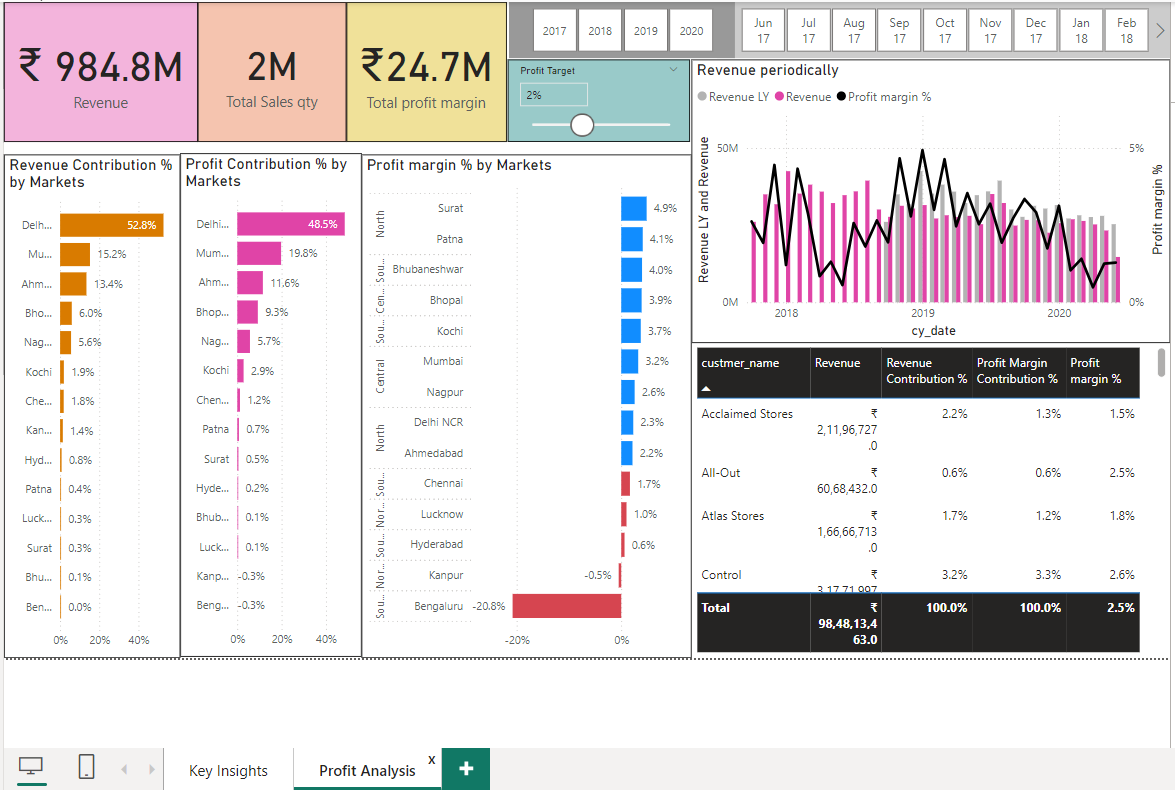

The page's visual inventory and layout, read from the dashboard file:
{"tool":"powerbi","page":{"name":"Profit Analysis","canvas":[1280,720],"ordinal":1},"visuals":[{"type":"card","fields":{"Values":["profit_file.Total profit margin"]},"box":[376.4,0,175.6,153.7],"z":0},{"type":"card","fields":{"Values":["sales transactions.Total Sales qty"]},"box":[213.1,0,163.3,153.7],"z":1000},{"type":"slicer","fields":{"Values":["sales date.cy_date"]},"box":[783.5,0,496.7,61.7],"z":2000},{"type":"barChart","title":"Profit Contribution % by Markets","fields":{"Category":["sales markets.markets_name"],"Y":["profit_file.Profit Margin Contribution %"]},"box":[193.5,166,199,553],"z":3000},{"type":"tableEx","title":"Revenue by Customers","fields":{"Values":["sales customers.custmer_name","sales transactions.Revenue","profit_file.Revenue Contribution %","profit_file.Profit Margin Contribution %","profit_file.Profit margin %"]},"box":[754.7,374.6,525.6,344.4],"z":4000},{"type":"slicer","fields":{"Values":["sales date.year"]},"box":[554.4,0,248.4,61.7],"z":5000},{"type":"barChart","title":"Profit margin % by Markets","fields":{"Category":["sales markets.zone","sales markets.markets_name","sales customers.custmer_name"],"Y":["profit_file.Profit margin %"]},"box":[392.5,167.4,362.3,553],"z":6000},{"type":"barChart","title":"Revenue Contribution % by Markets","fields":{"Category":["sales markets.markets_name"],"Y":["profit_file.Revenue Contribution %"]},"box":[0,167.4,193.5,553],"z":7000},{"type":"card","fields":{"Values":["sales transactions.Revenue"]},"box":[0,0,212.7,153.7],"z":8000},{"type":"lineClusteredColumnComboChart","title":"Revenue periodically","fields":{"Category":["sales date.cy_date"],"Y":["Profit Target.Revenue LY","sales transactions.Revenue"],"Y2":["profit_file.Profit margin %"]},"box":[754.7,63.1,525.6,311.5],"z":9000},{"type":"slicer","fields":{"Values":["Profit Target.Profit Target"]},"box":[553,63.1,200.3,90.6],"z":10000}]}

Visuals, with their boxes in screenshot pixels (x1, y1, x2, y2):
card - profit_file.Total profit margin: region(344, 0, 503, 139)
card - sales transactions.Total Sales qty: region(196, 0, 344, 139)
slicer - sales date.cy_date: region(712, 0, 1162, 56)
"Profit Contribution % by Markets" barChart: region(178, 150, 358, 651)
"Revenue by Customers" tableEx: region(686, 339, 1162, 651)
slicer - sales date.year: region(505, 0, 730, 56)
"Profit margin % by Markets" barChart: region(358, 152, 686, 652)
"Revenue Contribution % by Markets" barChart: region(3, 152, 178, 652)
card - sales transactions.Revenue: region(3, 0, 196, 139)
"Revenue periodically" lineClusteredColumnComboChart: region(686, 57, 1162, 339)
slicer - Profit Target.Profit Target: region(504, 57, 685, 139)
